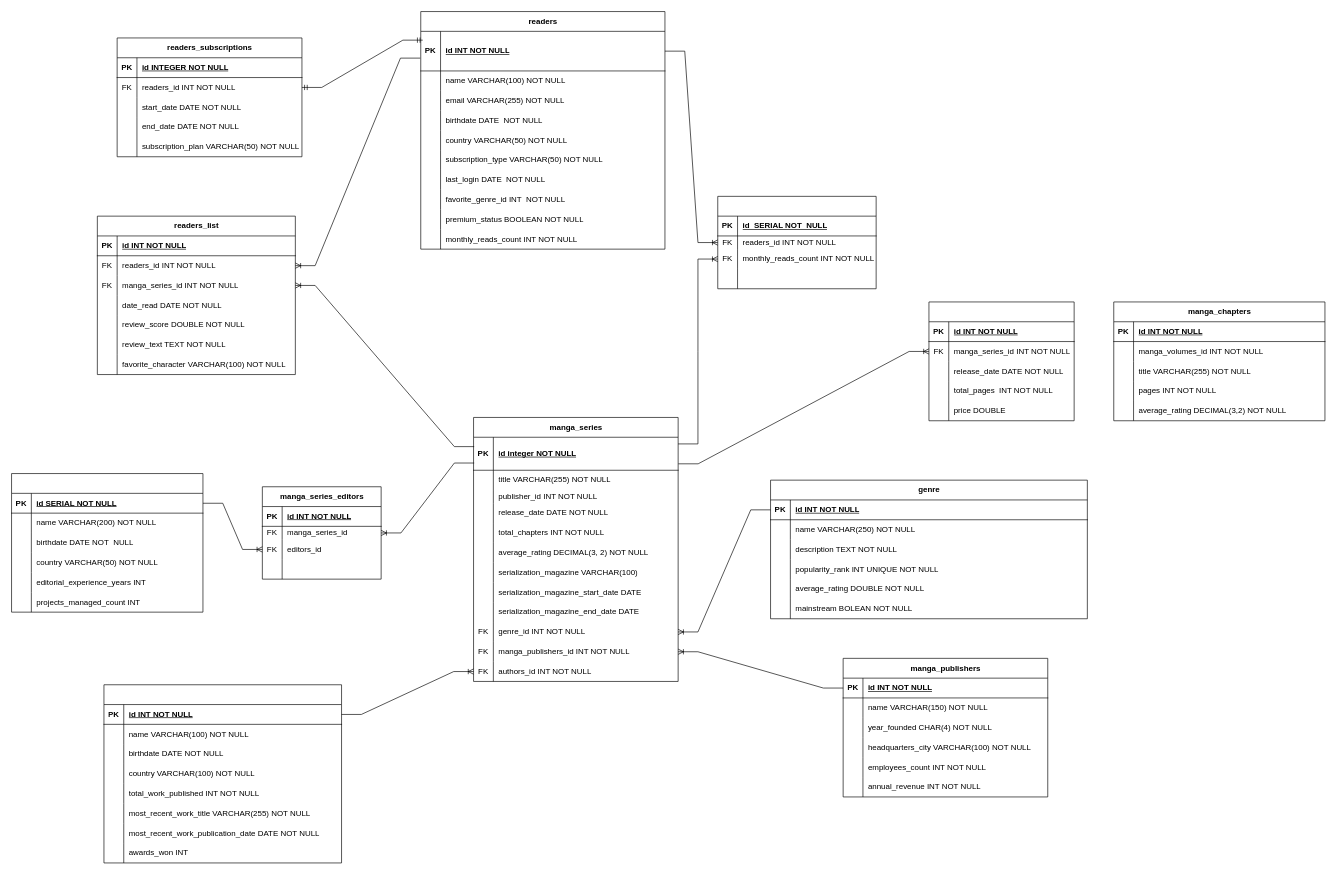
Some shapes in this 1337 by 875 pixel diagram are drawn without their labels. Here are the shapes that lost their labels. From the top down, the box of each, then its label:
(717, 196, 876, 289): manga_series_readers
(928, 301, 1074, 421): manga_volumes
(11, 473, 203, 612): editors
(103, 684, 342, 863): authors
